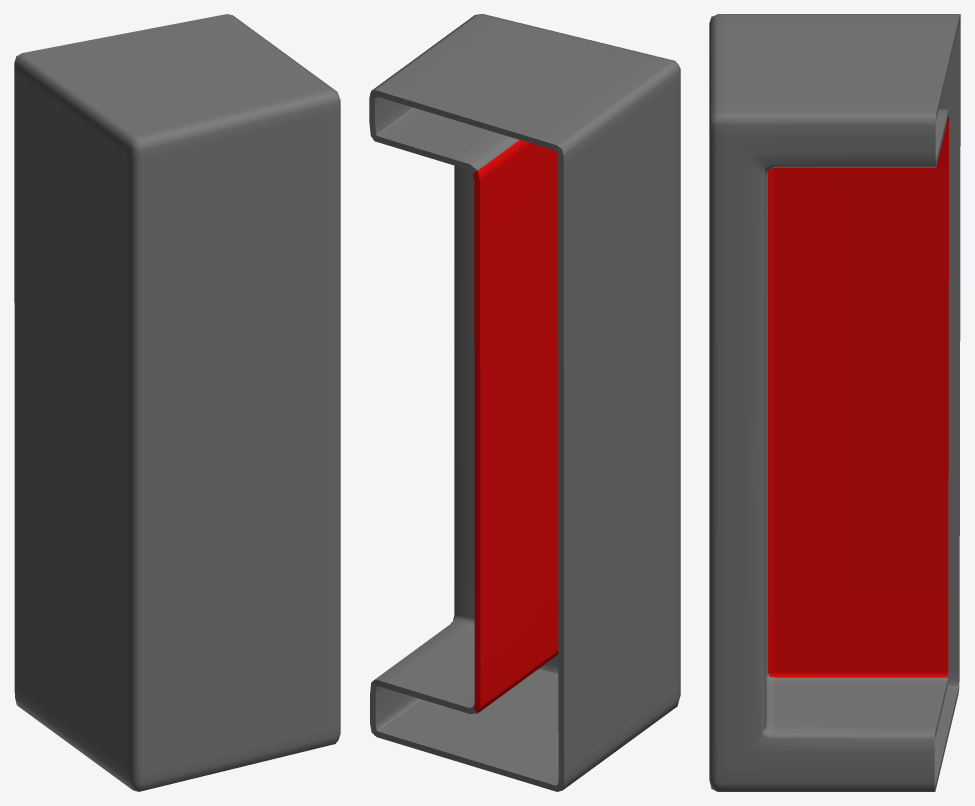
The model's file is Door01_BrokenSide01_09 1.fbx.
3 renders of one model, left to right at view 1: azimuth 30°, elevation 25°; view 2: azimuth 150°, elevation 25°; view 3: azimuth 270°, elevation 25°, orthographic. The views are drawn at different scales.
Visible parts, largest first — view 1: polySurface213; view 2: polySurface213; view 3: polySurface213.
Boxes of the visible parts, <box> form: polySurface213: <box>14,14,340,791</box>; polySurface213: <box>369,14,680,791</box>; polySurface213: <box>709,14,960,791</box>.
Bounding box in the file's own units: 5 × 15 × 5.03.
